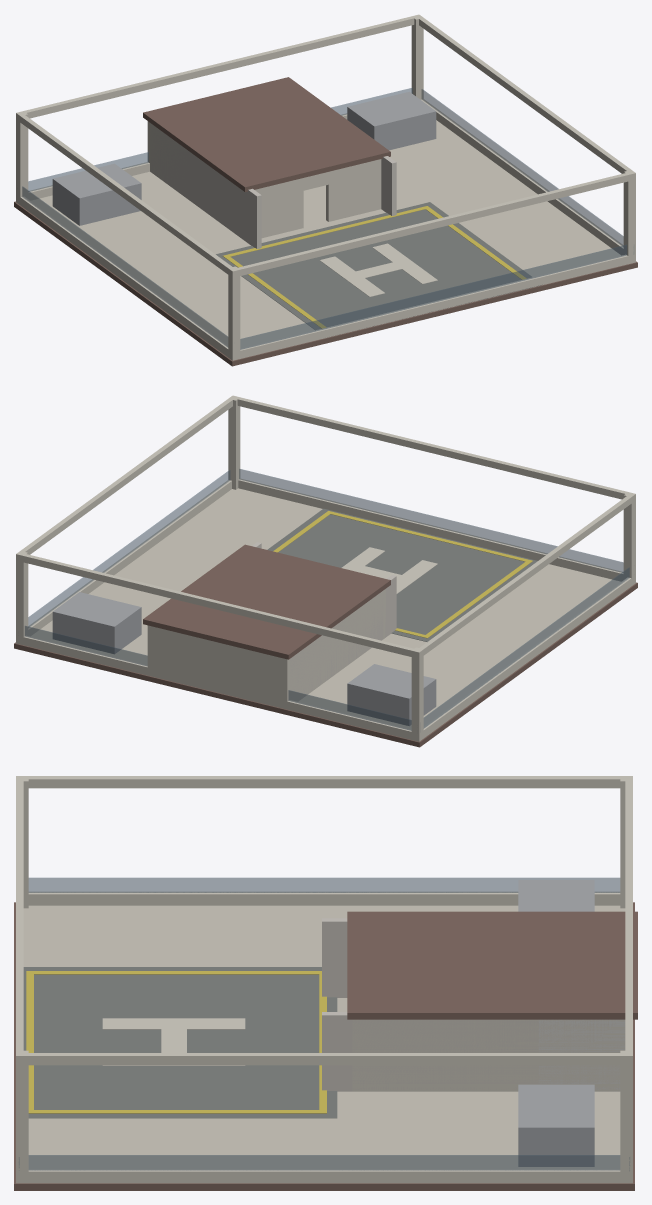
Rendered from brick-roof-a.skyline-v4.lod0.glb.
3 views of the same model, one above another, from view 1: azimuth 30°, elevation 25°; view 2: azimuth 150°, elevation 25°; view 3: azimuth 270°, elevation 25° (orthographic). The views are drawn at different scales.
Parts seen in each view (by area): view 1: brick-roof-a; view 2: brick-roof-a; view 3: brick-roof-a.
Boxes of the visible parts, <box> form: brick-roof-a: <box>14,14,637,366</box>; brick-roof-a: <box>14,395,637,747</box>; brick-roof-a: <box>14,776,637,1190</box>.
Bounding box in the file's own units: 26.16 × 5.8 × 24.48.
